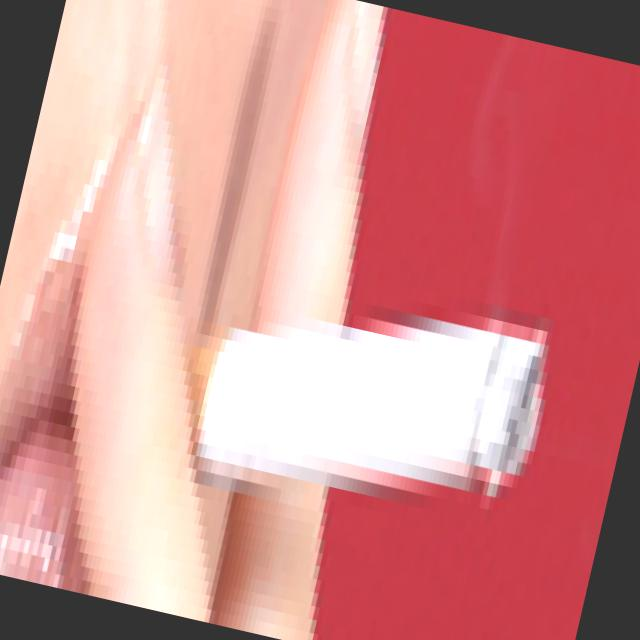cigarette: (194, 246, 556, 516)
